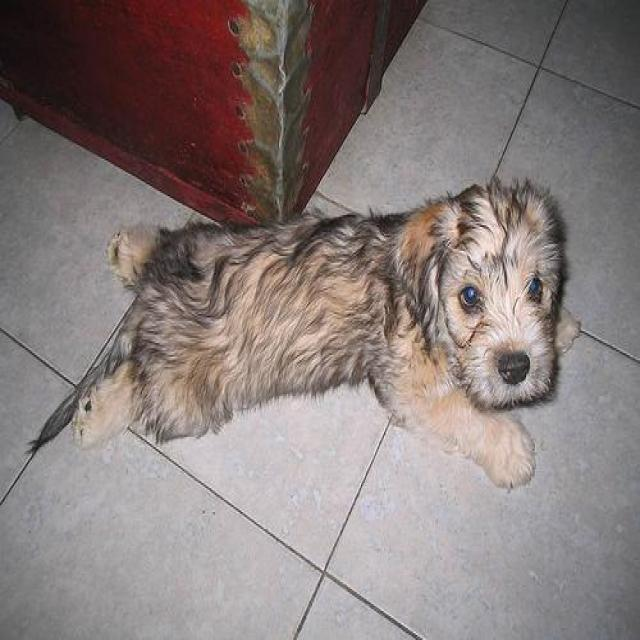dandie_dinmont: (26, 174, 580, 492)
